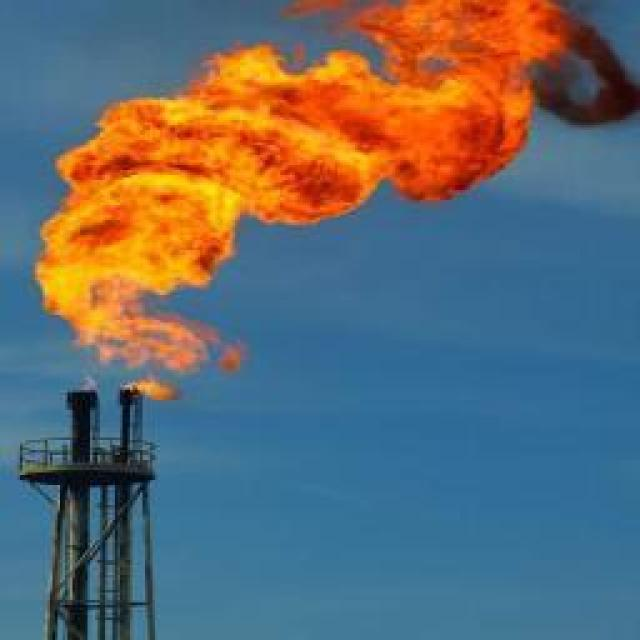fire: (35, 0, 640, 378), (118, 377, 188, 401)
